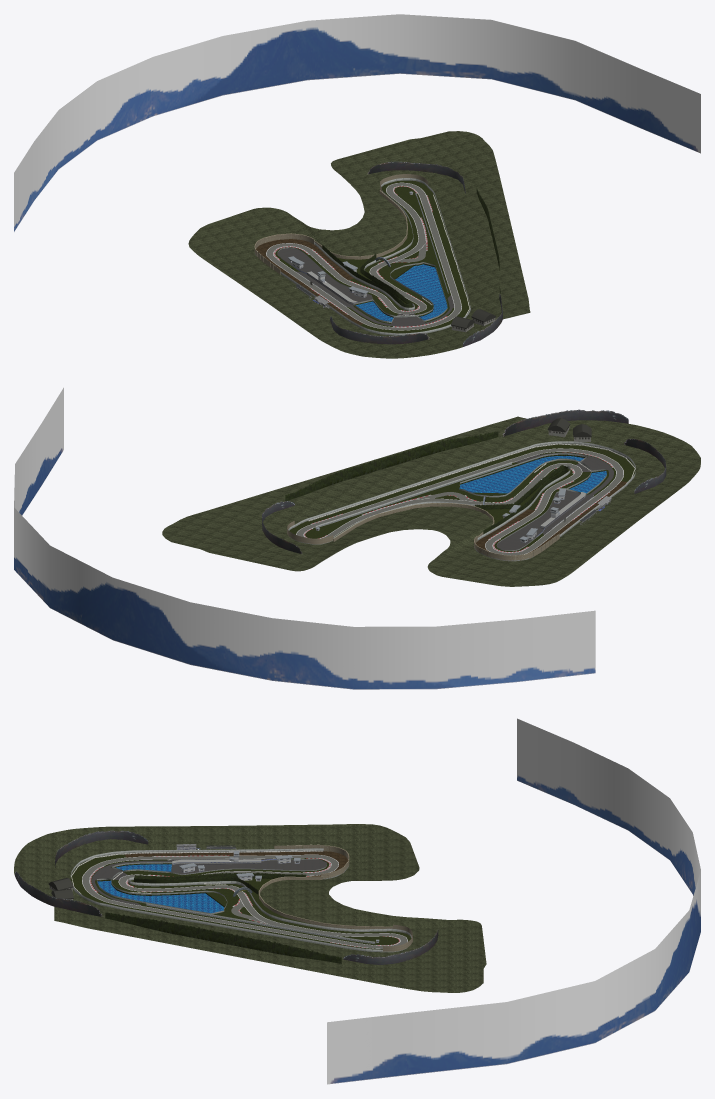
The model's file is TSUKUBATOURING.obj.
3 renders of one model, top to bottom at view 1: azimuth 30°, elevation 25°; view 2: azimuth 150°, elevation 25°; view 3: azimuth 270°, elevation 25°, orthographic. The views are drawn at different scales.
Parts seen in each view (by area): view 1: Mountain_Plane.017, g.007_Plane.011, g_Plane.003, inner_Plane.013, g.002_Plane.007, bounds_Plane.006, r_Plane.005, bounds.003_Plane.014, Fences_Plane.009, g.012_Plane.025, Mountain.001_Plane.021, g.006_Plane.004 (+4 smaller); view 2: Mountain_Plane.017, g.007_Plane.011, g_Plane.003, inner_Plane.013, g.009_Plane.022, g.002_Plane.007, bounds_Plane.006, bounds.003_Plane.014, Fences_Plane.009, g.008_Plane.018, r_Plane.005, g.006_Plane.004 (+6 smaller); view 3: Mountain_Plane.017, g.007_Plane.011, g_Plane.003, inner_Plane.013, g.009_Plane.022, bounds_Plane.006, Fences_Plane.009, g.002_Plane.007, bounds.003_Plane.014, r_Plane.005, Mountain.002_Plane.010, g.006_Plane.004 (+4 smaller).
Part boxes in pixels (x1,y1,x2,y2): Mountain_Plane.017: (14, 14, 700, 231); g.007_Plane.011: (188, 131, 530, 358); g_Plane.003: (275, 180, 470, 333); inner_Plane.013: (266, 183, 461, 330); g.002_Plane.007: (356, 264, 447, 321); bounds_Plane.006: (255, 179, 470, 335); r_Plane.005: (266, 182, 461, 330); bounds.003_Plane.014: (254, 174, 428, 274); Fences_Plane.009: (280, 178, 470, 334); g.012_Plane.025: (256, 239, 363, 324); Mountain.001_Plane.021: (330, 316, 432, 344); g.006_Plane.004: (277, 248, 372, 302); Mountain_Plane.017: (14, 387, 595, 689); g.007_Plane.011: (162, 416, 700, 586); g_Plane.003: (289, 444, 635, 551); inner_Plane.013: (296, 448, 623, 555); g.009_Plane.022: (285, 431, 498, 501); g.002_Plane.007: (459, 456, 606, 493); bounds_Plane.006: (289, 443, 635, 561); bounds.003_Plane.014: (287, 503, 559, 561); Fences_Plane.009: (288, 441, 635, 539); g.008_Plane.018: (502, 409, 628, 436); r_Plane.005: (296, 448, 623, 554); g.006_Plane.004: (497, 490, 580, 550); Mountain_Plane.017: (327, 718, 700, 1084); g.007_Plane.011: (14, 824, 486, 992); g_Plane.003: (70, 854, 411, 949); inner_Plane.013: (82, 855, 407, 948); g.009_Plane.022: (105, 912, 341, 963); bounds_Plane.006: (70, 850, 411, 952); Fences_Plane.009: (70, 848, 411, 951); g.002_Plane.007: (97, 864, 224, 913); bounds.003_Plane.014: (258, 844, 412, 951); r_Plane.005: (82, 854, 407, 948); Mountain.002_Plane.010: (134, 872, 306, 894); g.006_Plane.004: (171, 859, 326, 874).
Size of the model in its own units: 35.45 by 3.39 by 33.87.
